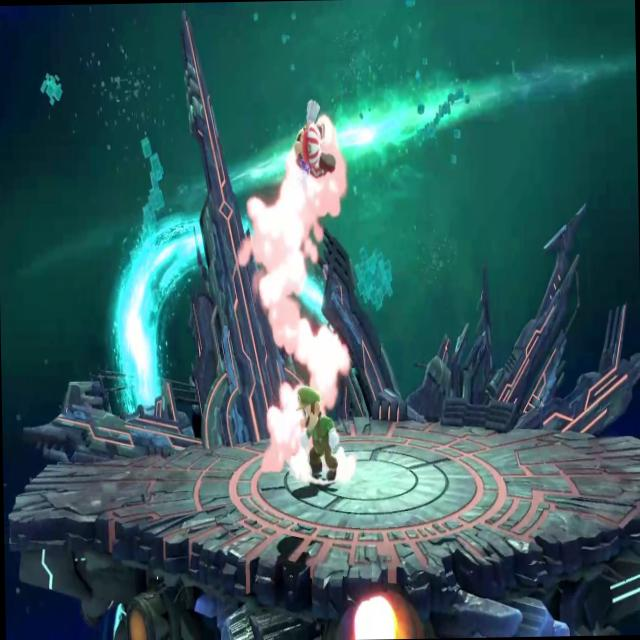Mario: (292, 379, 342, 486), (289, 95, 338, 196)
